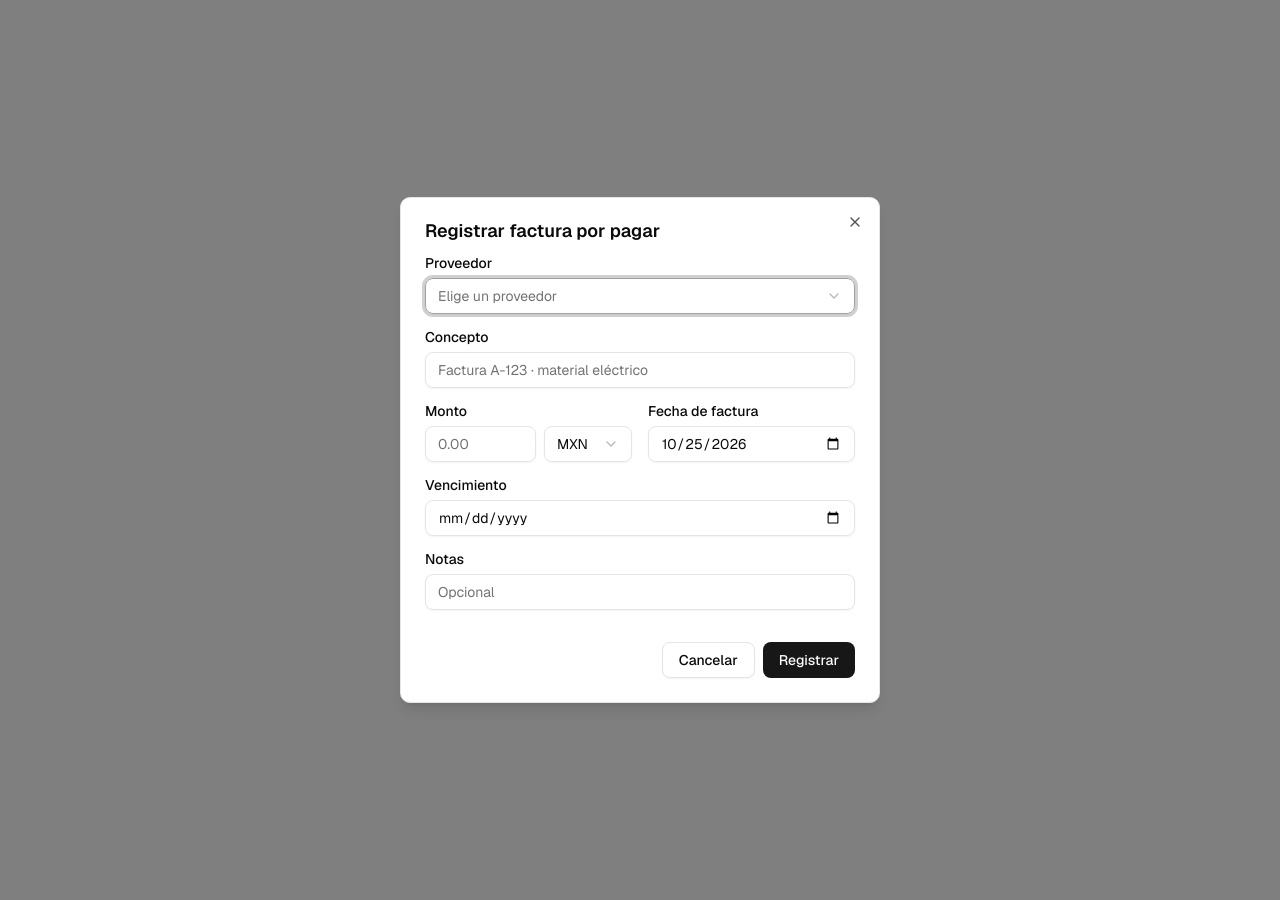
Test: PayableForm — pre-llenado del vencimiento › elegir proveedor con plazo pre-llena vencimiento = factura + días
The width and height of the screenshot is (1280, 900).
Step 1. Type "2026-09-01" into the date field labelled "Fecha de factura" → (752, 444), box [648,426,855,462]
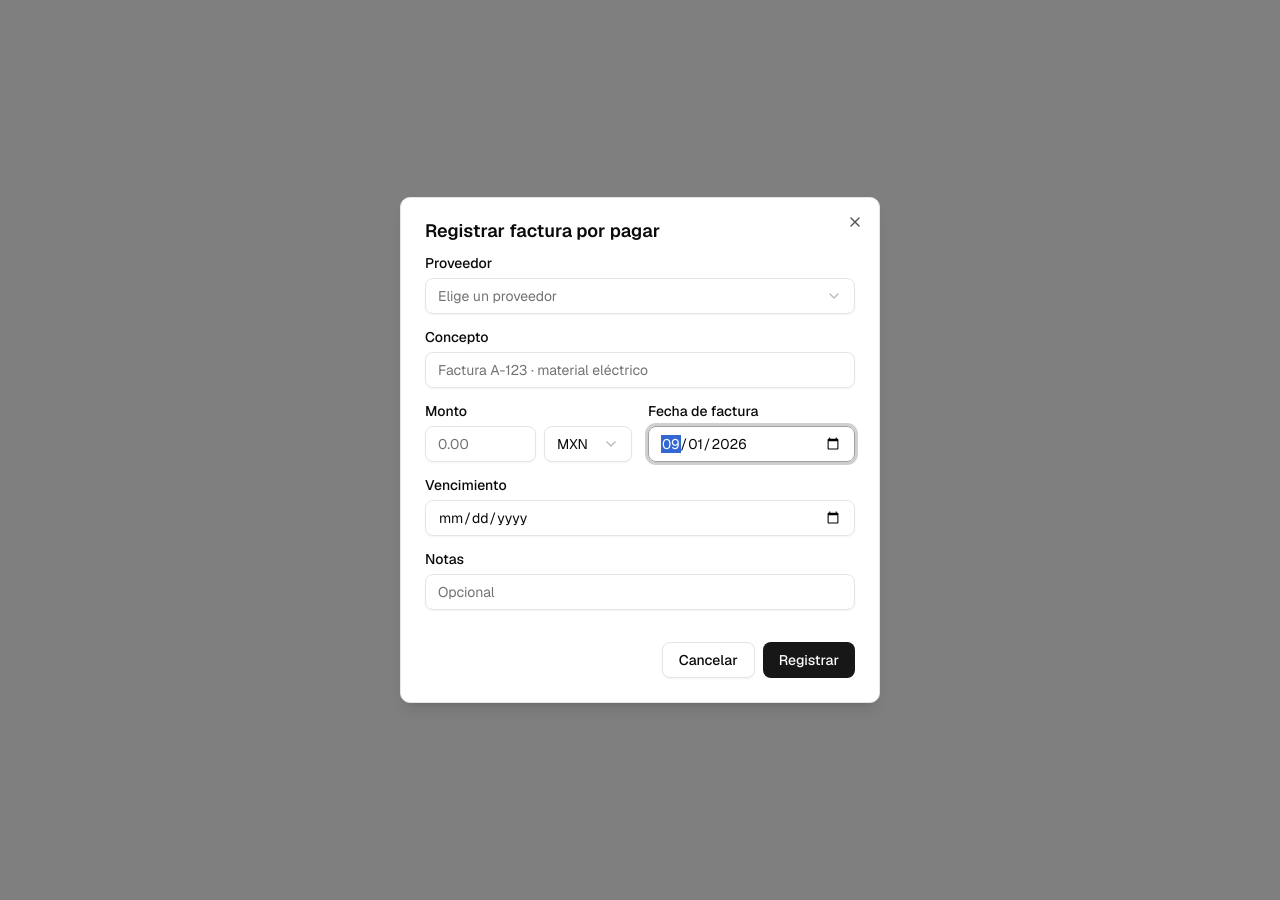
Step 2. Click the dropdown labelled "proveedor" → click(498, 296), box [425,278,855,314]
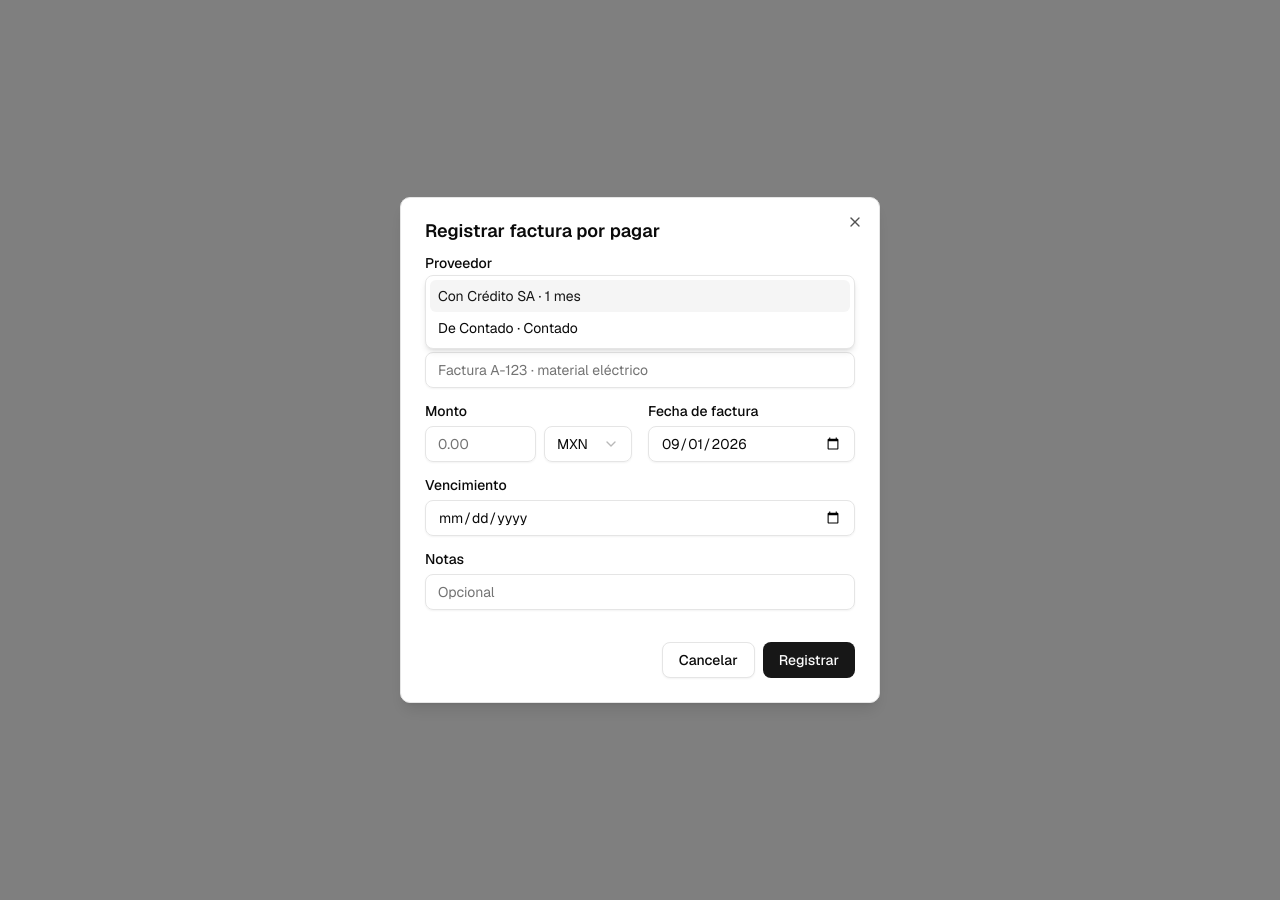
Step 3. Click the option "Con Crédito SA · 1 mes" → click(487, 296), box [430,280,850,312]
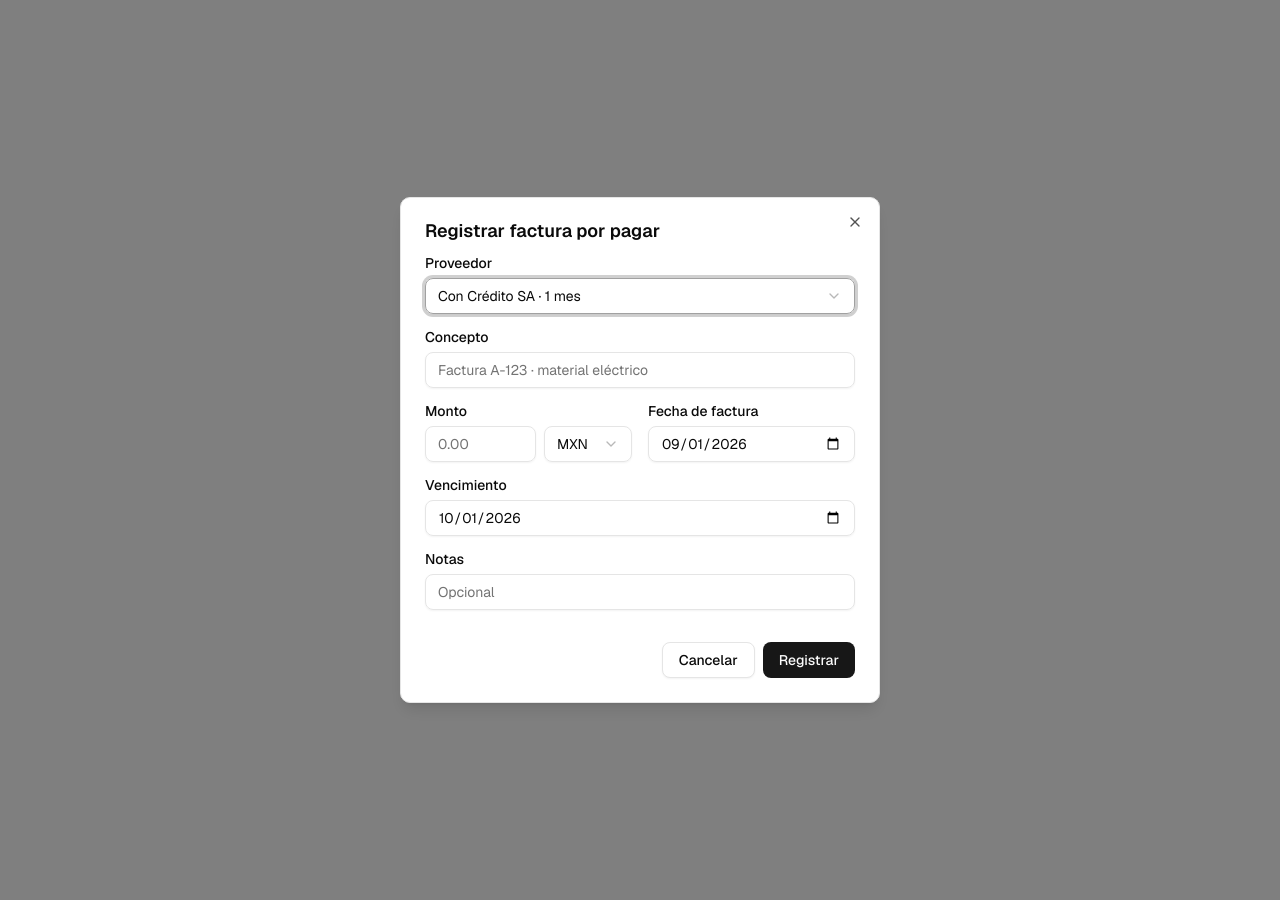
Result: the date field labelled "Vencimiento" holds "2026-10-01" at [425,500,855,536]
